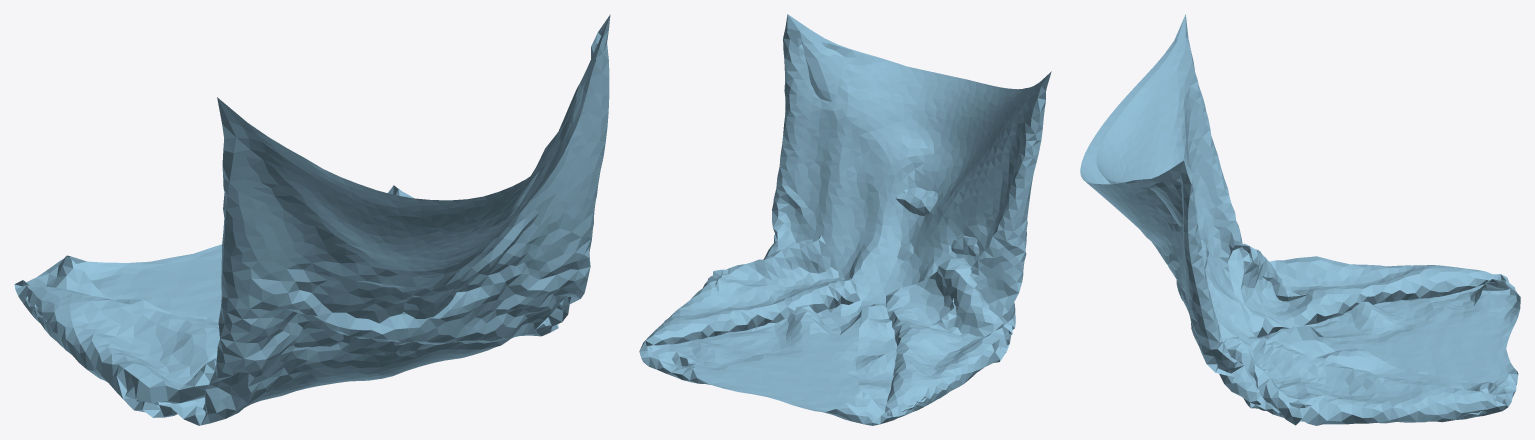
Rendered from frame_08.glb.
3 renders of one model, left to right at view 1: azimuth 30°, elevation 25°; view 2: azimuth 150°, elevation 25°; view 3: azimuth 270°, elevation 25°, orthographic. The views are drawn at different scales.
Parts seen in each view (by area): view 1: frame_08.obj; view 2: frame_08.obj; view 3: frame_08.obj.
Part boxes in pixels (<box>): frame_08.obj: <box>14,14,610,425</box>; frame_08.obj: <box>639,14,1051,425</box>; frame_08.obj: <box>1080,14,1520,425</box>.
Size of the model in its own units: 1.2 by 0.9875 by 1.46.
